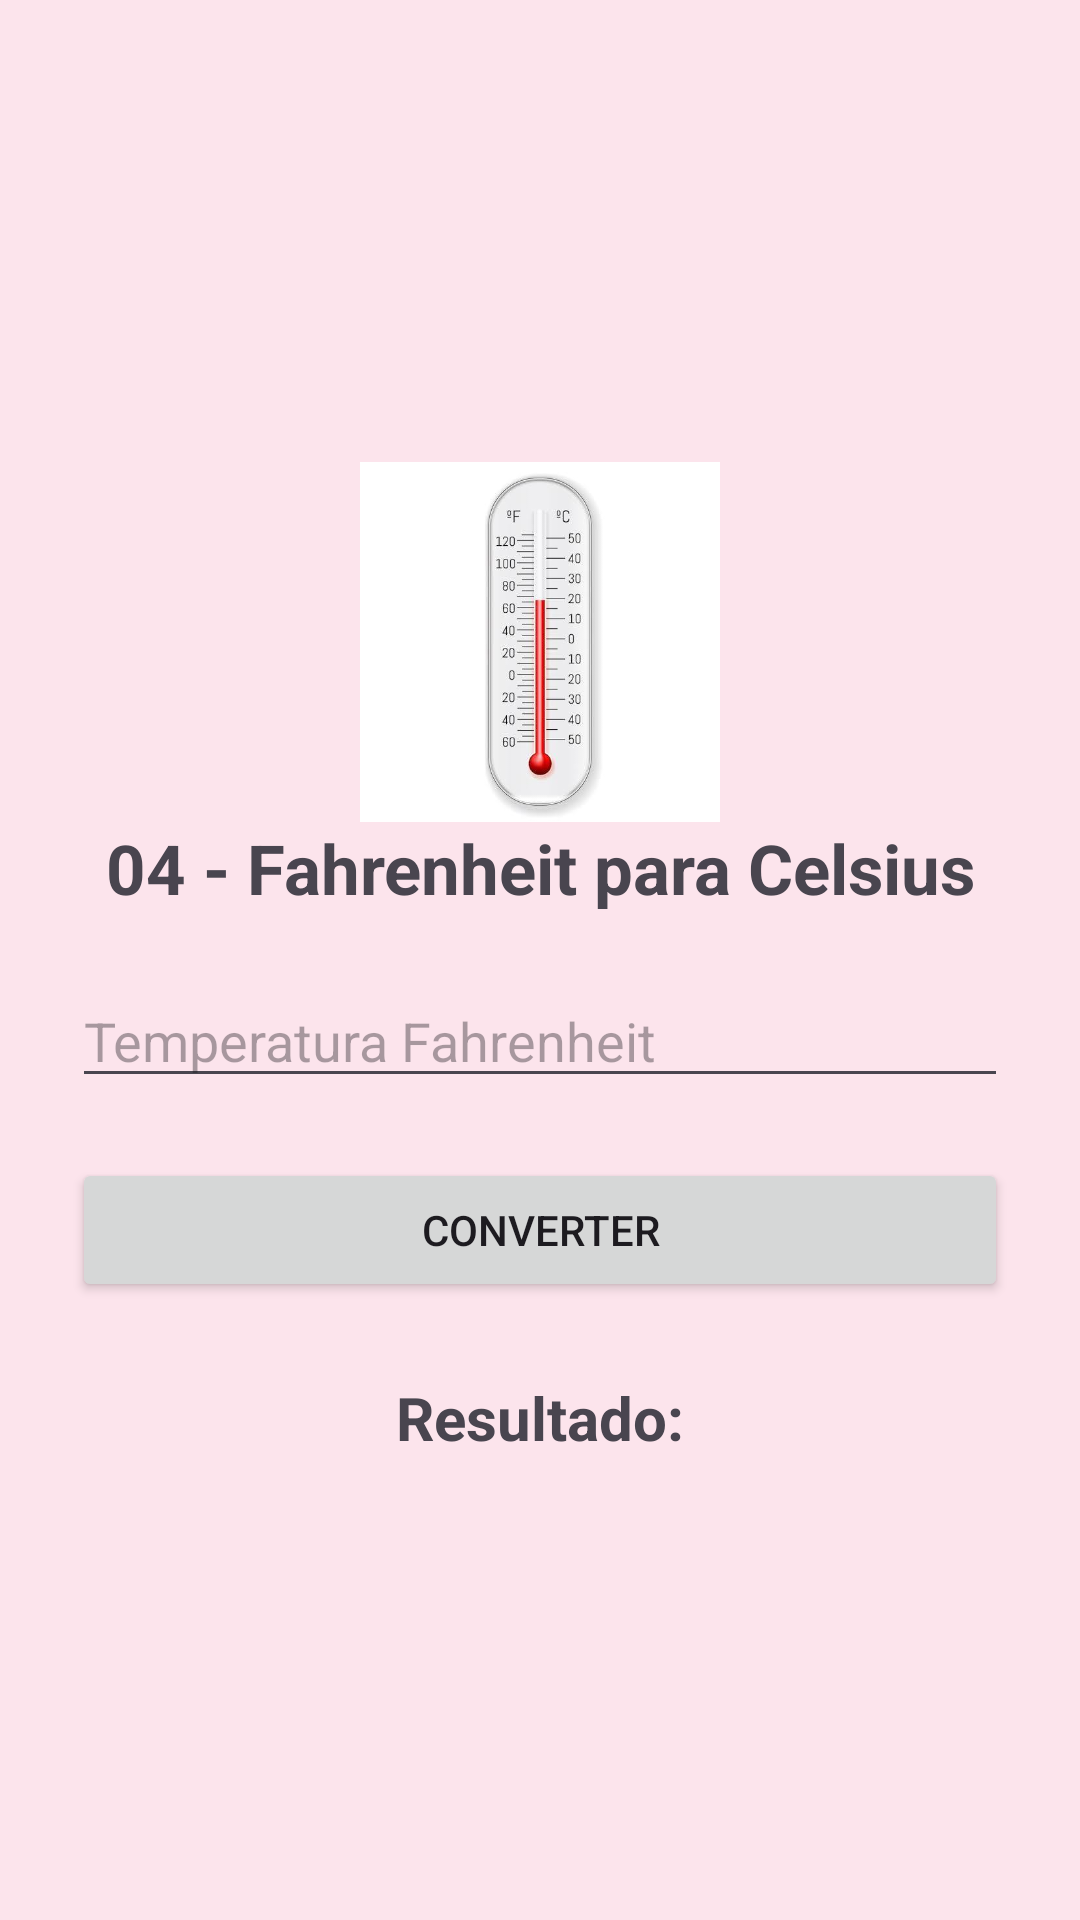

Icon click points for this 1080w x 1920h phone screenshot, format point (x, y):
Imagem de temperatura: point (540, 642)
